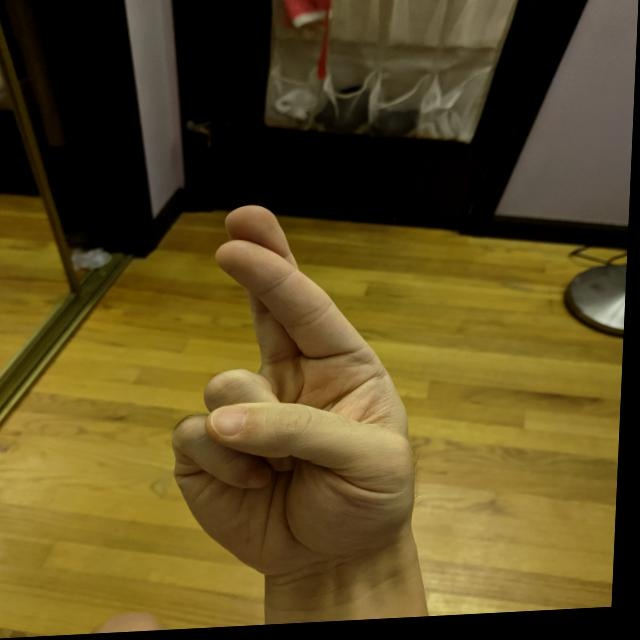R: (165, 196, 441, 589)
